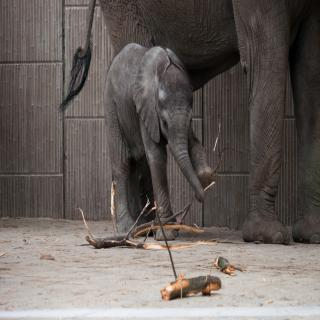Elephant: (95, 40, 225, 244)
